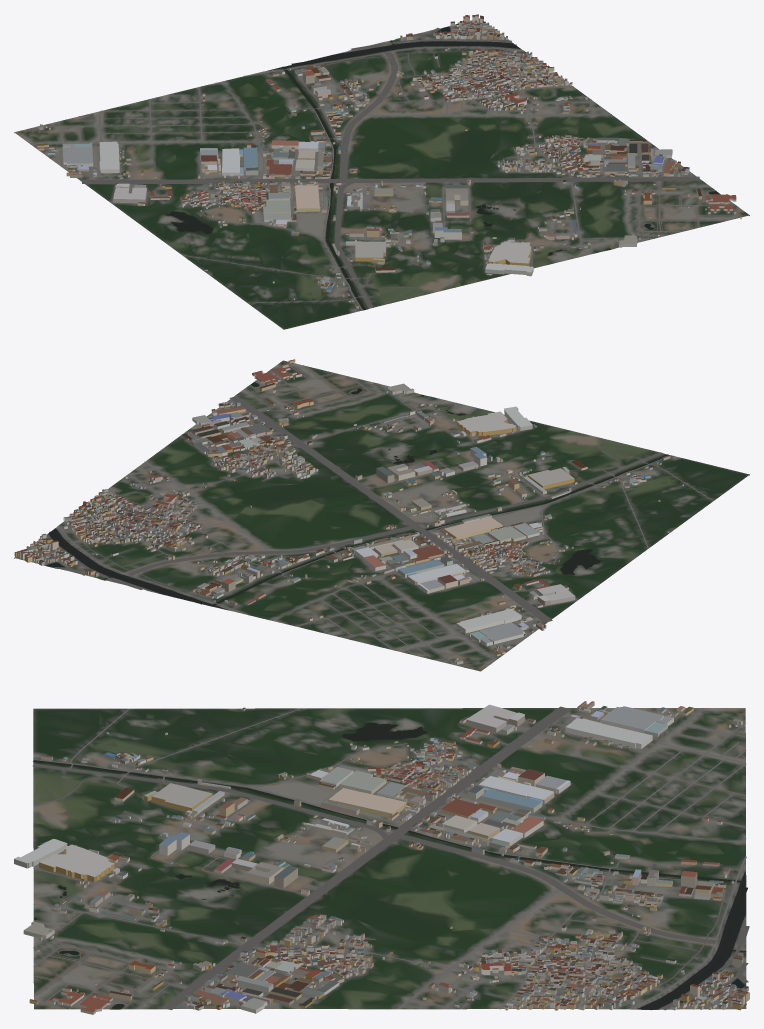
3 views of the same model, one above another, from view 1: azimuth 30°, elevation 25°; view 2: azimuth 150°, elevation 25°; view 3: azimuth 270°, elevation 25° (orthographic). The views are drawn at different scales.
Visible parts, largest first — view 1: ground, buildings, roads, water; view 2: ground, buildings, roads, water; view 3: ground, buildings, roads, water.
Part boxes in pixels (x1,y1,x2,y2): ground: (14,18,749,329); buildings: (37,14,741,308); roads: (30,19,743,310); water: (165,26,719,309); ground: (14,360,749,671); buildings: (14,359,683,664); roads: (15,362,713,665); water: (46,382,669,609); ground: (33,708,746,1009); buildings: (14,701,749,1014); roads: (32,706,749,1010); water: (33,723,747,1010).
Size of the model in its own units: 1444 by 27.67 by 1448.
